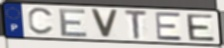C: (27, 7, 56, 37)
E: (184, 13, 217, 43), (58, 8, 91, 38), (154, 12, 185, 42)
T: (124, 9, 150, 41)
V: (88, 8, 120, 40)
